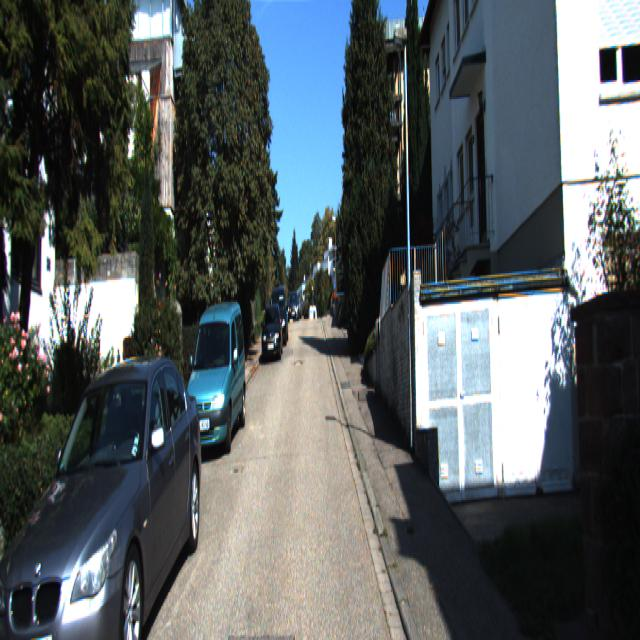Car: (0, 343, 208, 638), (180, 294, 248, 455), (269, 284, 288, 346), (262, 303, 283, 359)
